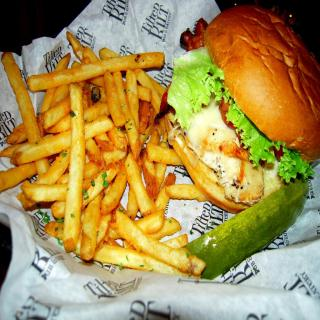French fries: (0, 30, 209, 279)
Hamburger: (158, 5, 320, 216)
